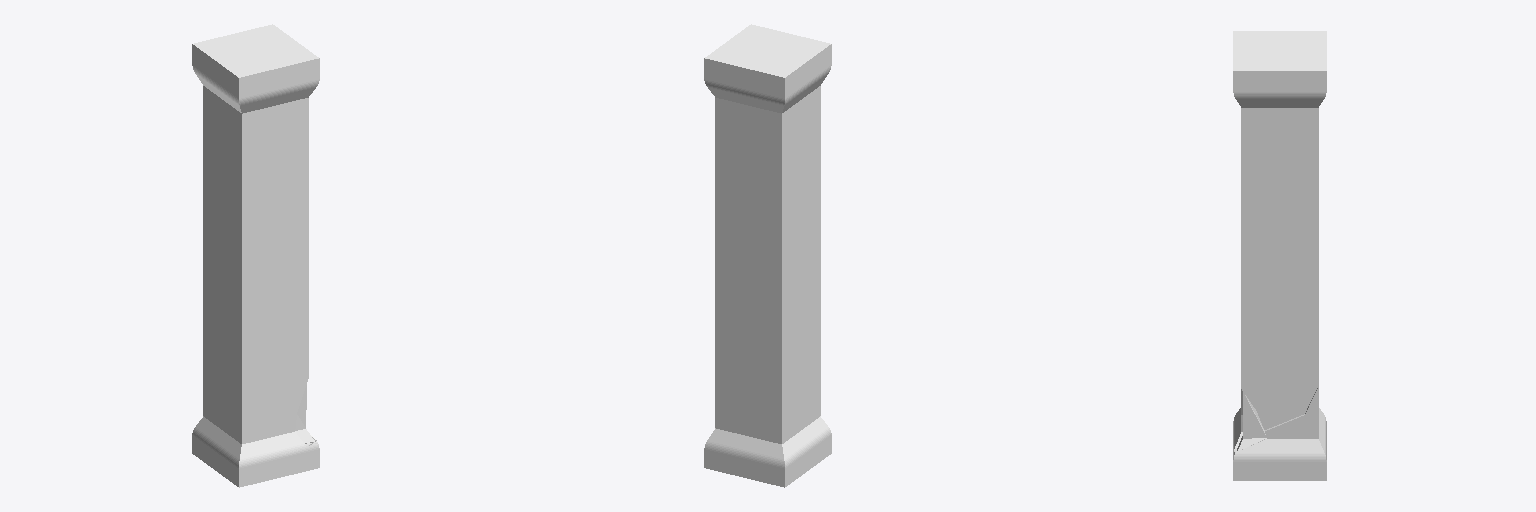
File: Pillar_C.obj
3 views of the same model, side by side, from view 1: azimuth 30°, elevation 25°; view 2: azimuth 150°, elevation 25°; view 3: azimuth 270°, elevation 25° (orthographic).
Parts seen in each view (by area): view 1: Pillar_C; view 2: Pillar_C; view 3: Pillar_C.
Part boxes in pixels (bbox=[...]): Pillar_C: bbox=[192, 24, 319, 487]; Pillar_C: bbox=[704, 24, 831, 487]; Pillar_C: bbox=[1233, 31, 1326, 480].
Bounding box in the file's own units: 12.69 × 61.66 × 12.69.